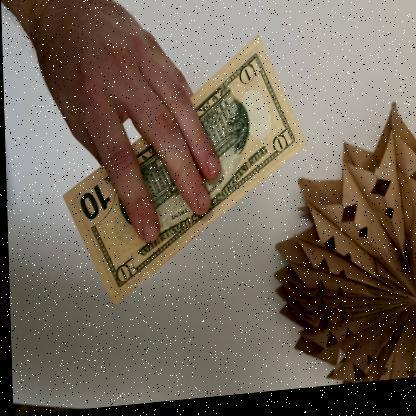ten-back: (59, 42, 306, 311)
